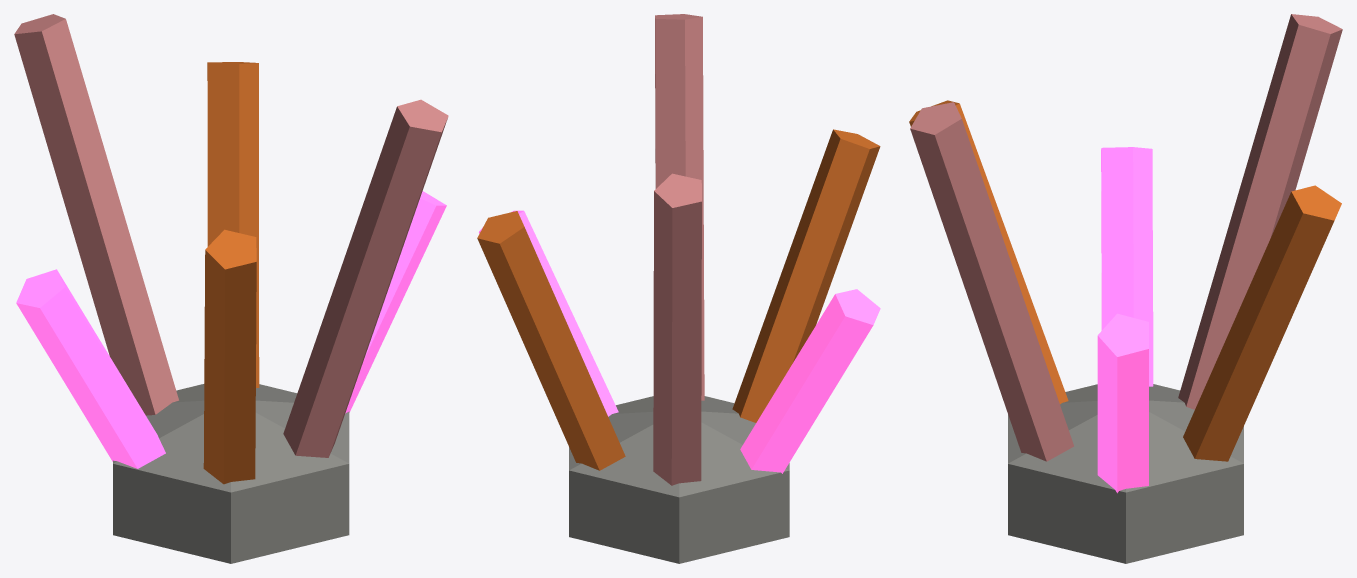
File: coral.glb
3 renders of one model, left to right at view 1: azimuth 30°, elevation 25°; view 2: azimuth 150°, elevation 25°; view 3: azimuth 270°, elevation 25°, orthographic. The views are drawn at different scales.
Parts seen in each view (by area): view 1: coral_Body; view 2: coral_Body; view 3: coral_Body.
Part boxes in pixels (x1=…): coral_Body: x1=14, y1=14, x2=448, y2=563; coral_Body: x1=477, y1=14, x2=880, y2=563; coral_Body: x1=909, y1=14, x2=1342, y2=563.
Bounding box in the file's own units: 1.55 × 1.68 × 1.38.
